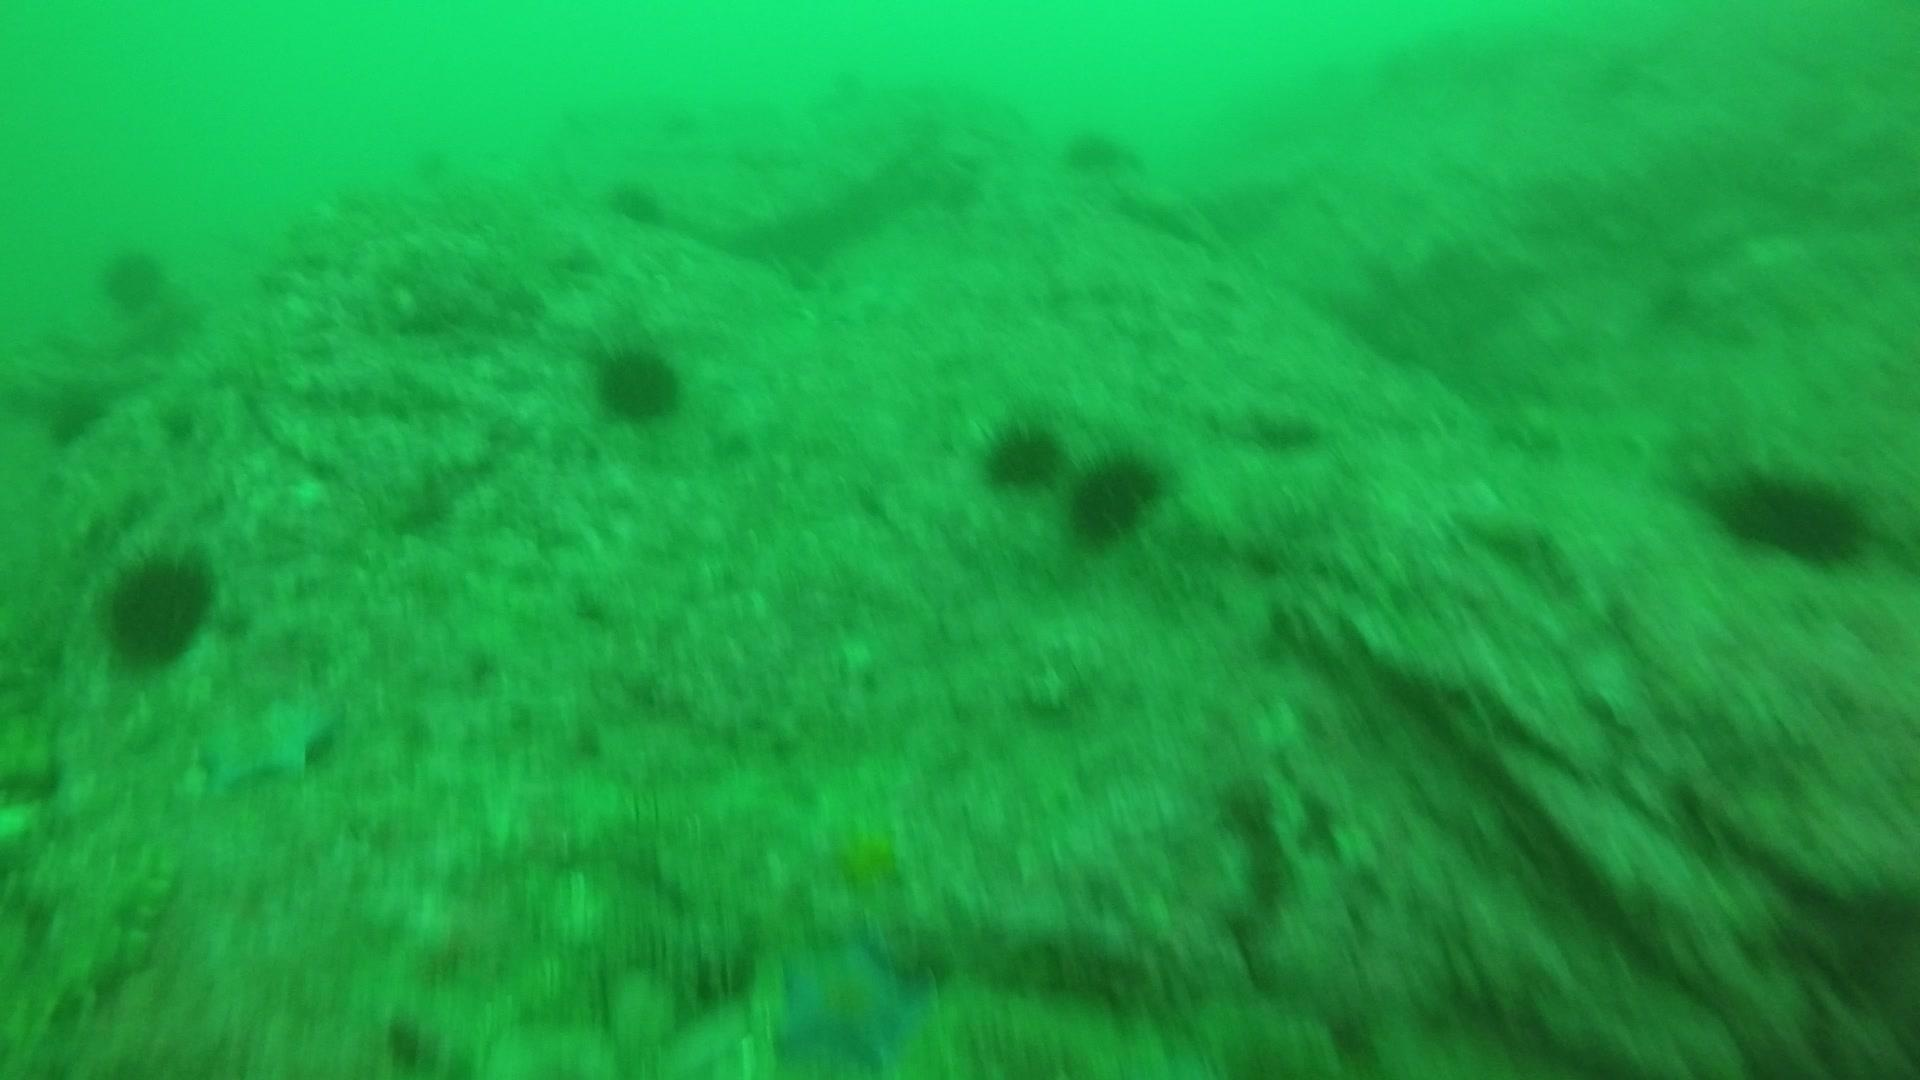echinus: (1706, 459, 1873, 571), (94, 543, 222, 673), (1060, 443, 1168, 547), (588, 338, 688, 427), (975, 414, 1069, 495), (94, 240, 173, 316), (37, 378, 109, 451), (1059, 121, 1133, 178), (640, 86, 705, 141), (595, 166, 659, 222), (398, 137, 463, 193), (812, 66, 877, 121)
starfish: (764, 928, 928, 1075), (189, 680, 343, 800), (815, 804, 916, 903)
